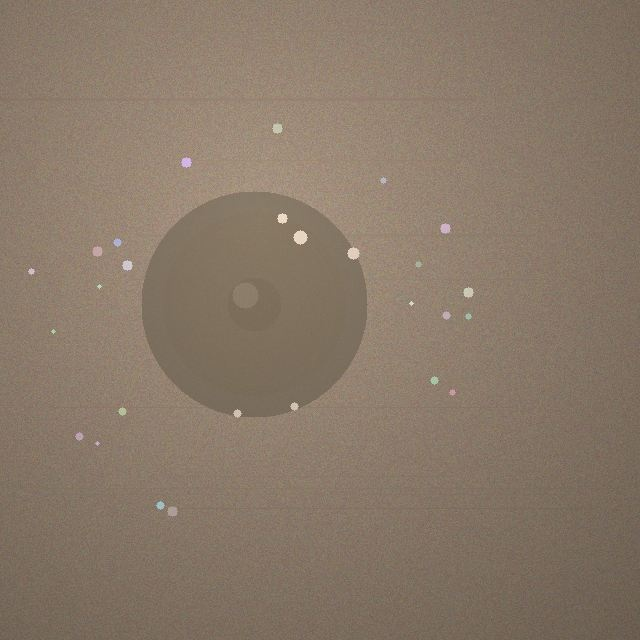overburn: (141, 191, 367, 417)
